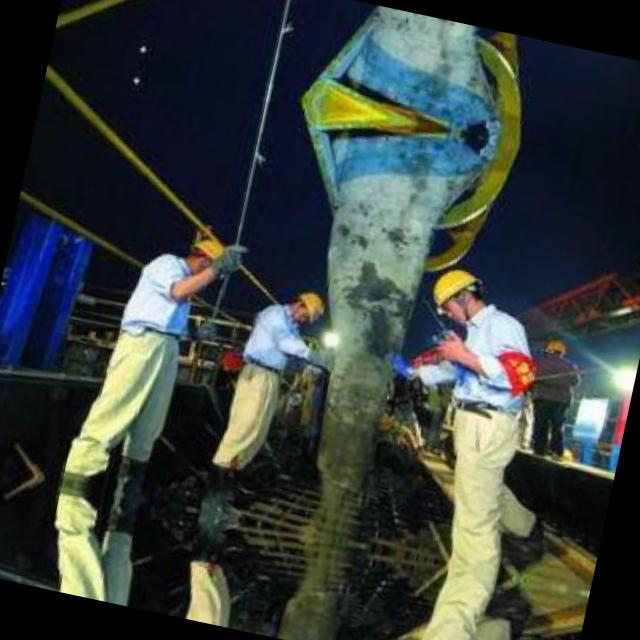helmet: (420, 255, 493, 329), (182, 232, 235, 288), (284, 288, 326, 332), (543, 332, 567, 363)
